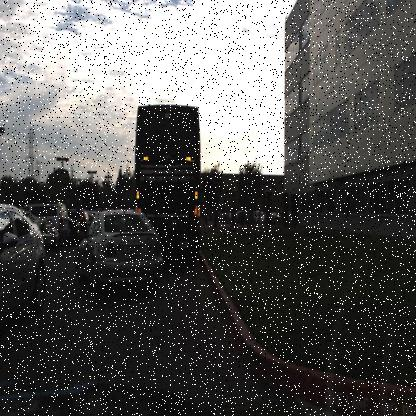car: (74, 208, 162, 291), (1, 198, 50, 324), (25, 194, 69, 230), (252, 207, 267, 225)
truck: (131, 100, 204, 244)
